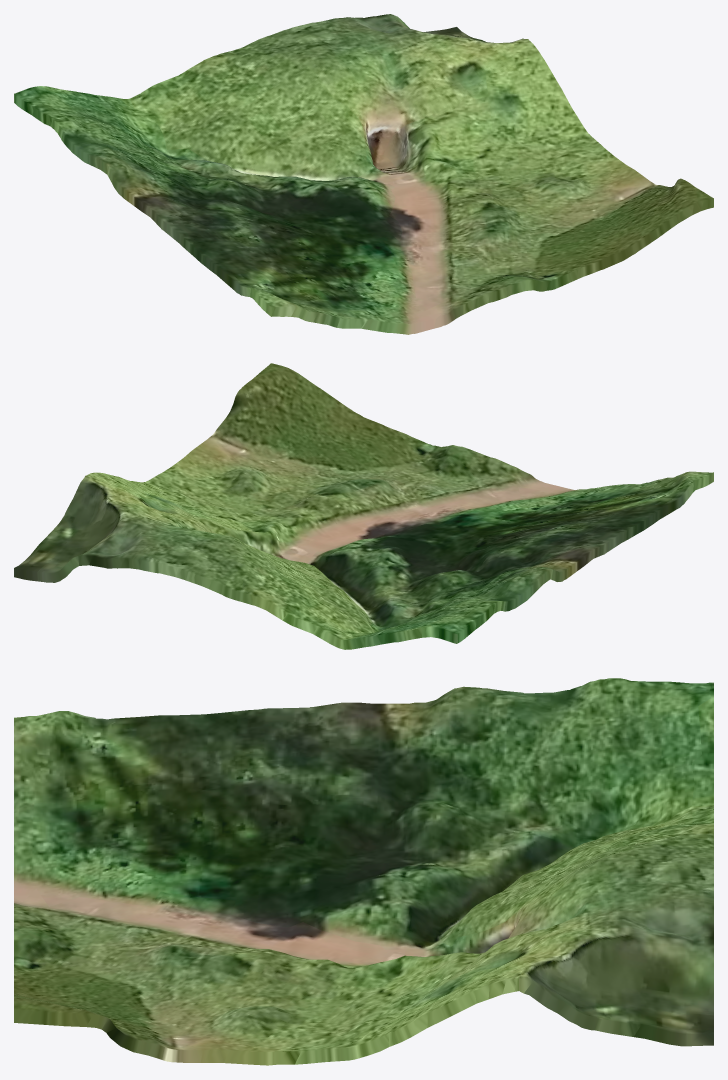
The model's file is z20-167555-405173-h0-yup-uvflip-v3-world.glb.
3 views of the same model, one above another, from view 1: azimuth 30°, elevation 25°; view 2: azimuth 150°, elevation 25°; view 3: azimuth 270°, elevation 25° (orthographic). The views are drawn at different scales.
Size of the model in its own units: 30.16 by 5.88 by 30.32.
Materials: 1 (1 with a texture image).
